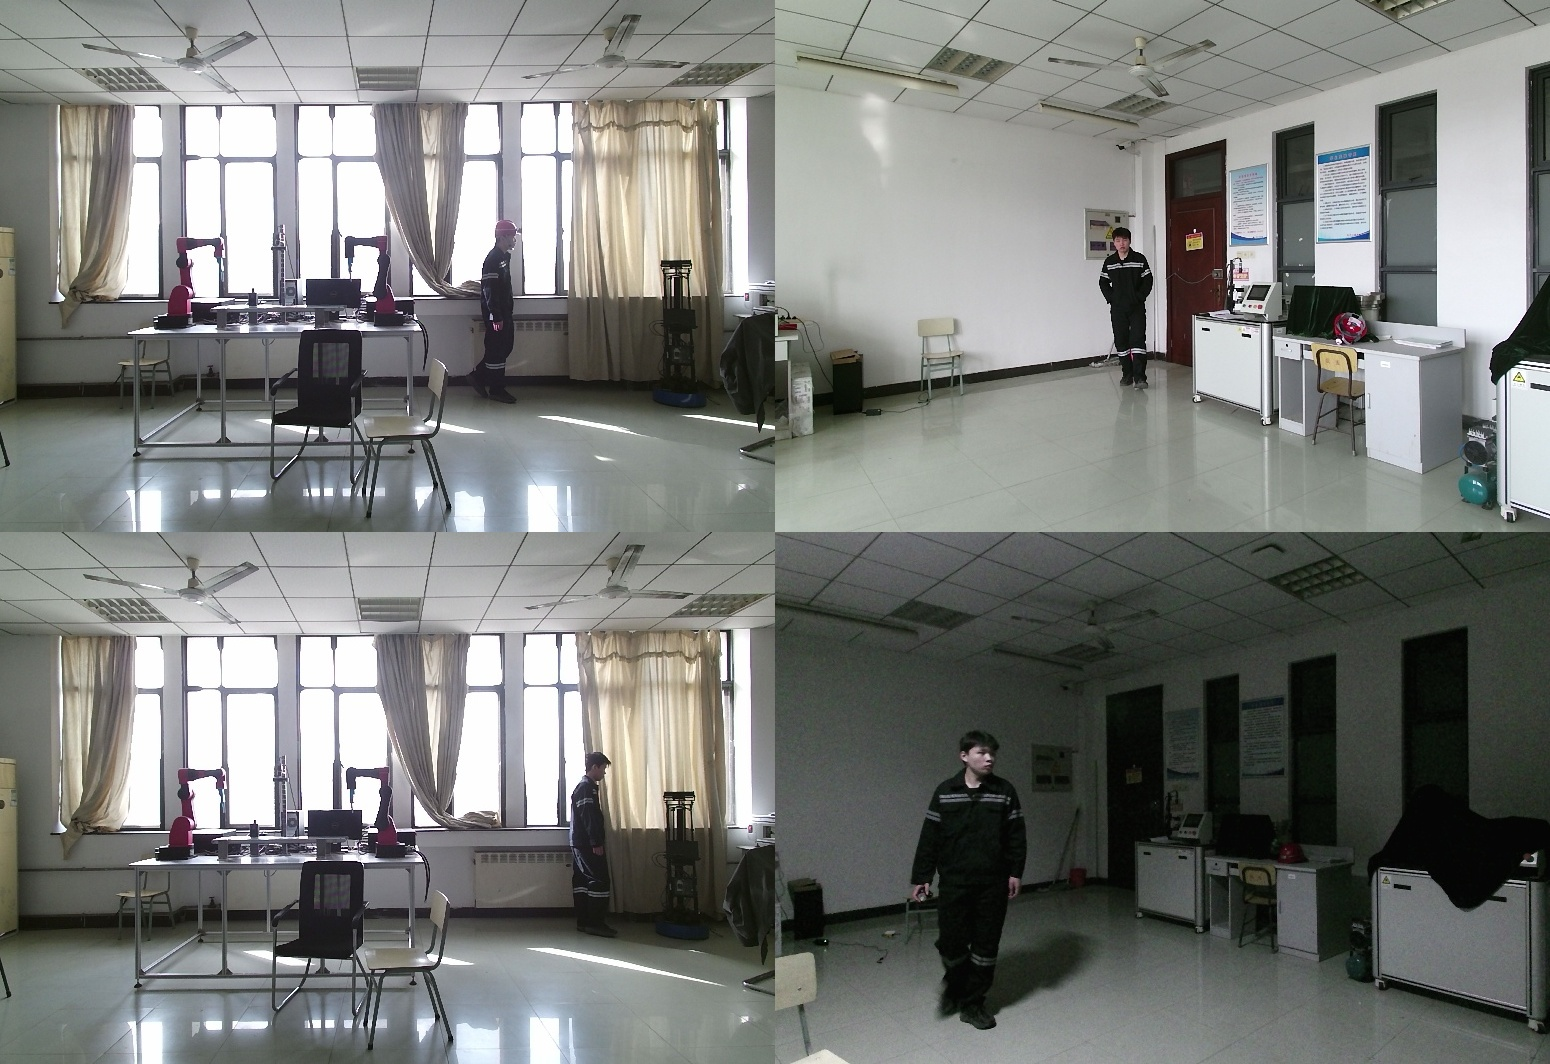person: (911, 731, 1036, 1028), (571, 753, 636, 942), (1097, 229, 1158, 391), (470, 220, 520, 412)
